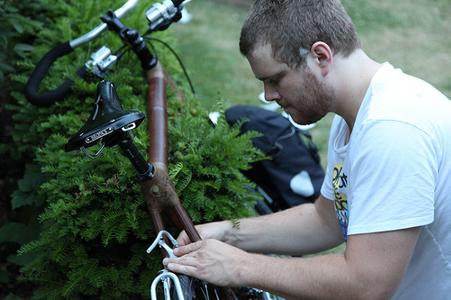person: (158, 2, 451, 299)
